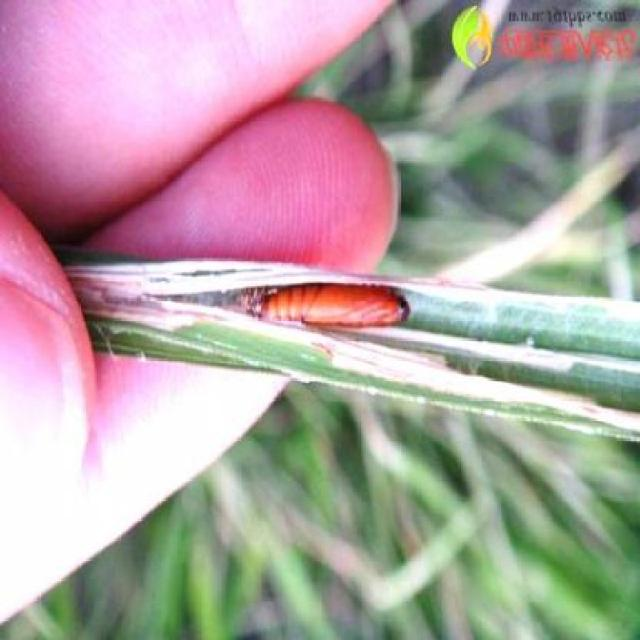leaf-folder: (245, 266, 418, 348)
